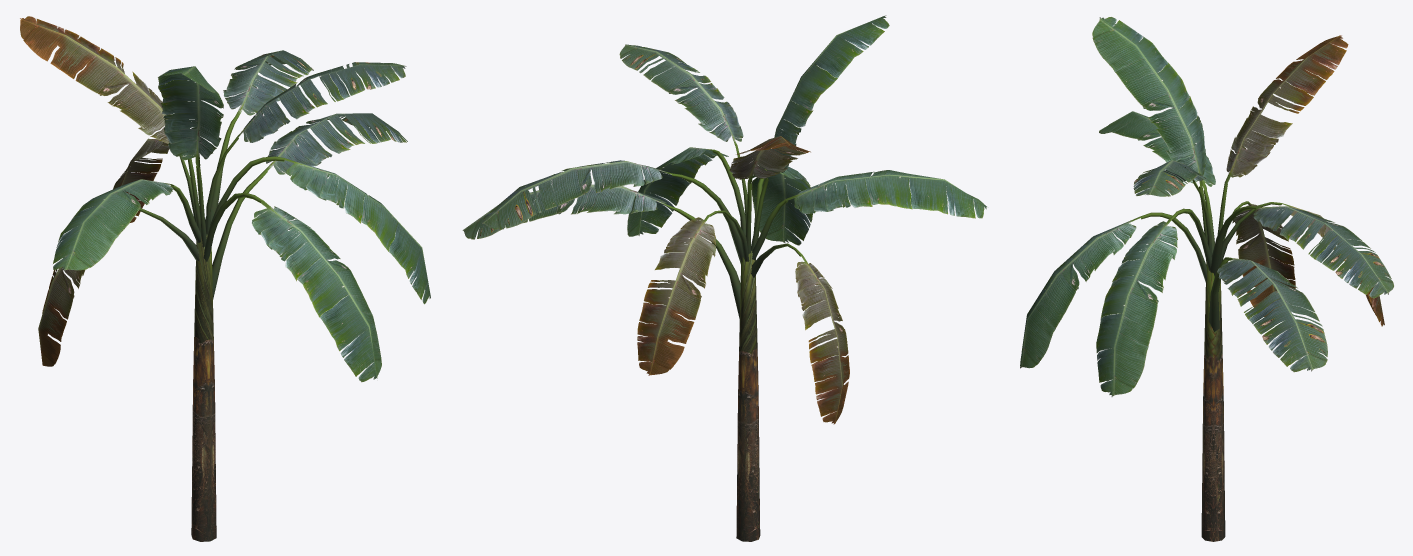
3 renders of one model, left to right at view 1: azimuth 30°, elevation 25°; view 2: azimuth 150°, elevation 25°; view 3: azimuth 270°, elevation 25°, orthographic. The views are drawn at different scales.
Visible parts, largest first — view 1: COM_Nature_TreeA_BananaTree01_SM01; view 2: COM_Nature_TreeA_BananaTree01_SM01; view 3: COM_Nature_TreeA_BananaTree01_SM01.
Part boxes in pixels (bbox=[...]): COM_Nature_TreeA_BananaTree01_SM01: bbox=[20, 16, 430, 541]; COM_Nature_TreeA_BananaTree01_SM01: bbox=[462, 15, 986, 541]; COM_Nature_TreeA_BananaTree01_SM01: bbox=[1020, 17, 1393, 541].
Bounding box in the file's own units: 439 × 489 × 348.
1 material, 1 textured.
